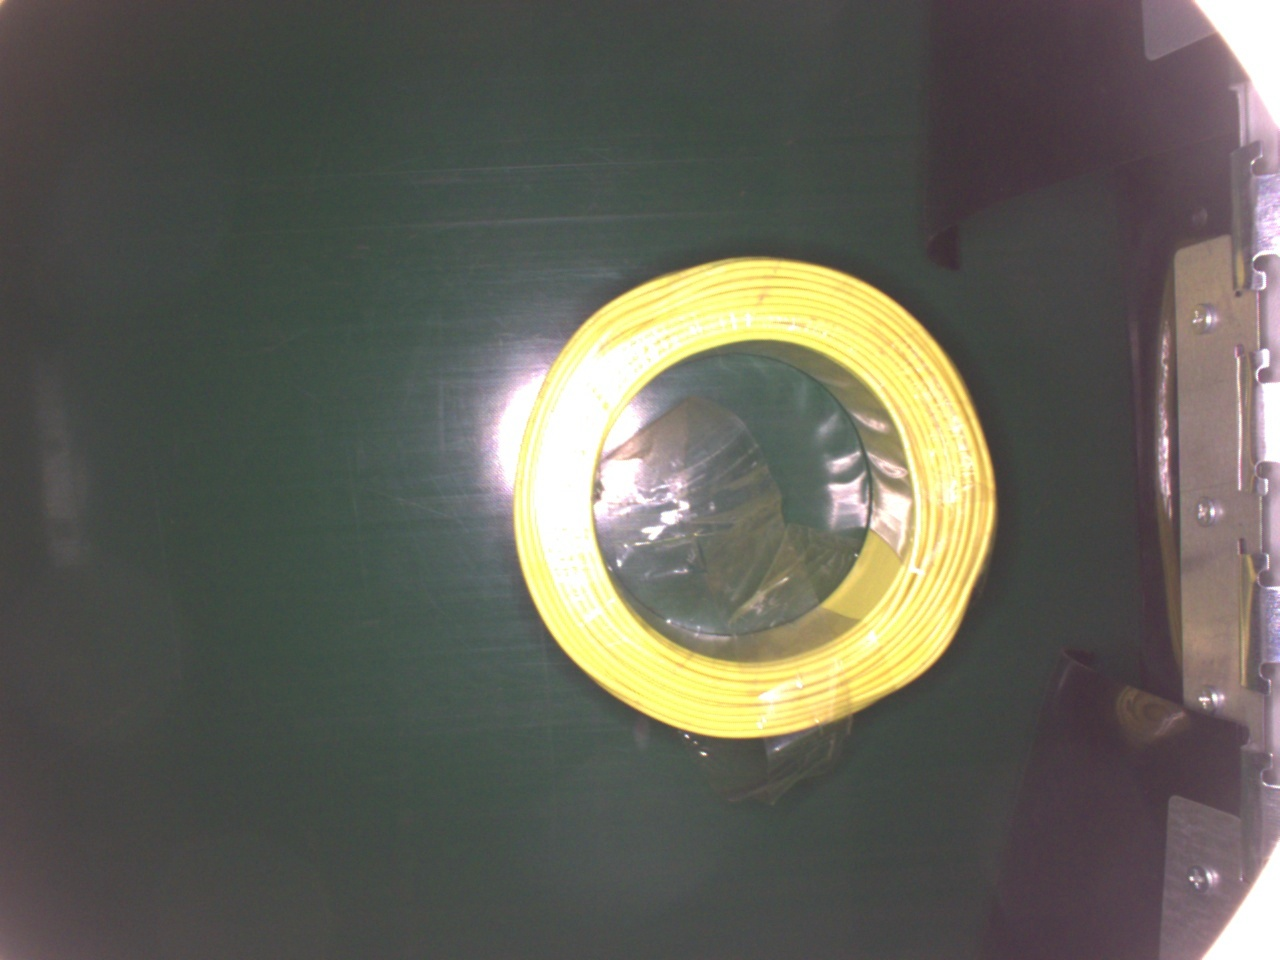yellow: (512, 252, 1003, 743)
